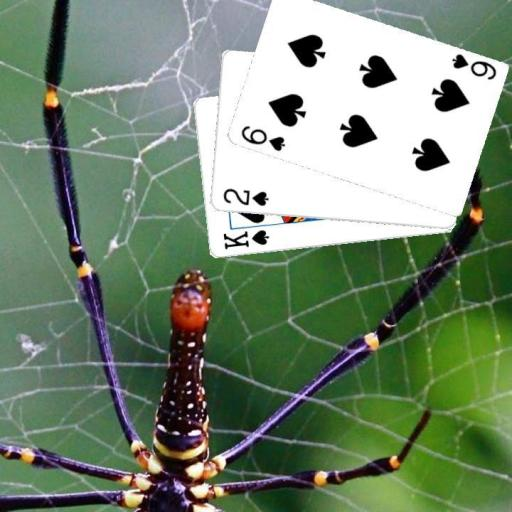2S: (220, 186, 270, 209)
6S: (448, 50, 498, 82), (238, 122, 287, 153)
KS: (219, 227, 270, 252)
